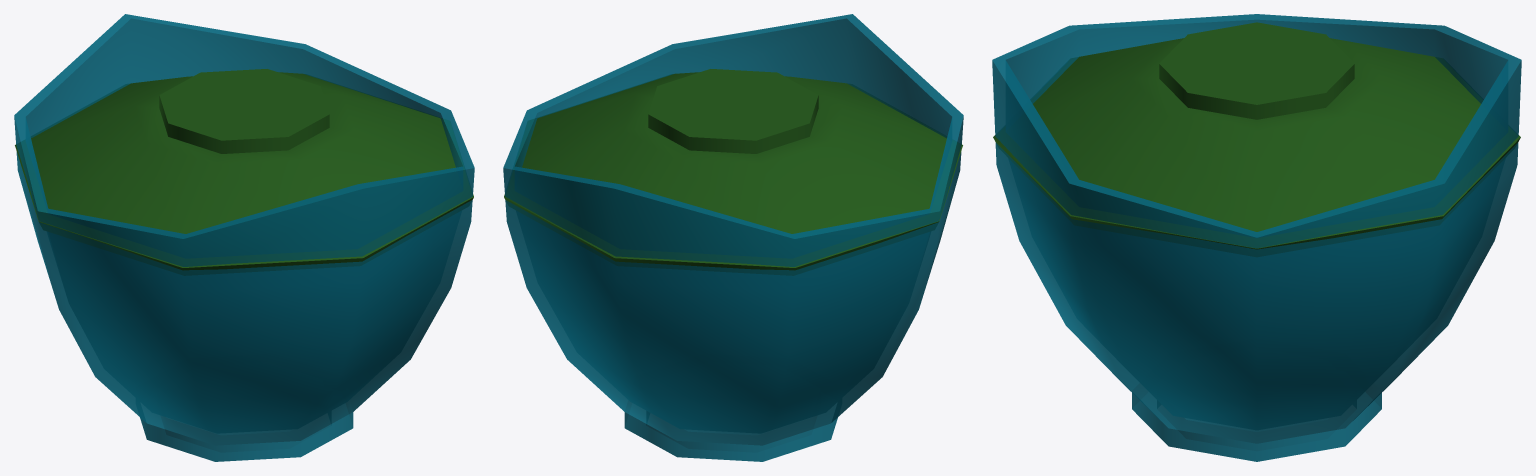
Rendered from cooking_assets_serving_bowl_3t563uwrc2.glb.
3 views of the same model, side by side, from view 1: azimuth 30°, elevation 25°; view 2: azimuth 150°, elevation 25°; view 3: azimuth 270°, elevation 25° (orthographic). The views are drawn at different scales.
Visible parts, largest first — view 1: serving_bowl_1.002_Cylinder.124, serving_bowl_3_lid.001_Cylinder.125; view 2: serving_bowl_1.002_Cylinder.124, serving_bowl_3_lid.001_Cylinder.125; view 3: serving_bowl_1.002_Cylinder.124, serving_bowl_3_lid.001_Cylinder.125.
Boxes of the visible parts, x1,y1,x2,y2 form: serving_bowl_1.002_Cylinder.124: (14,14,474,461); serving_bowl_3_lid.001_Cylinder.125: (15,69,473,275); serving_bowl_1.002_Cylinder.124: (503,14,963,461); serving_bowl_3_lid.001_Cylinder.125: (504,69,962,275); serving_bowl_1.002_Cylinder.124: (992,14,1521,461); serving_bowl_3_lid.001_Cylinder.125: (993,22,1520,256).
Bounding box in the file's own units: 2.3 × 1.67 × 2.3.
2 materials, 2 textured.
